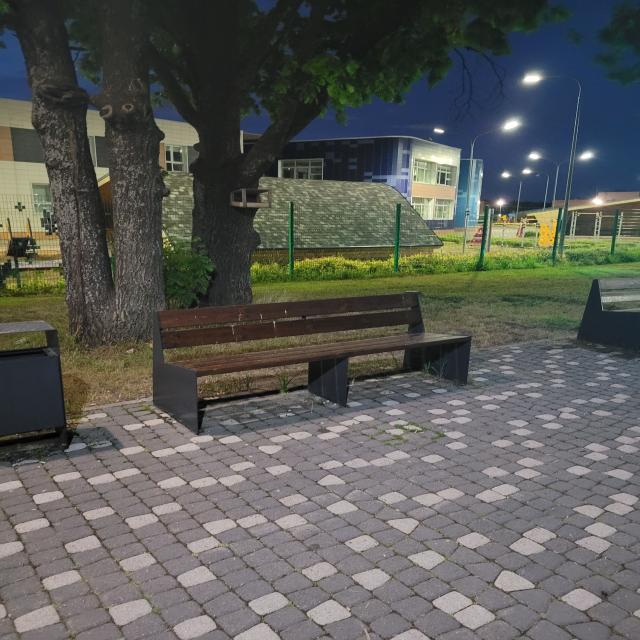Bench: (152, 291, 470, 435)
